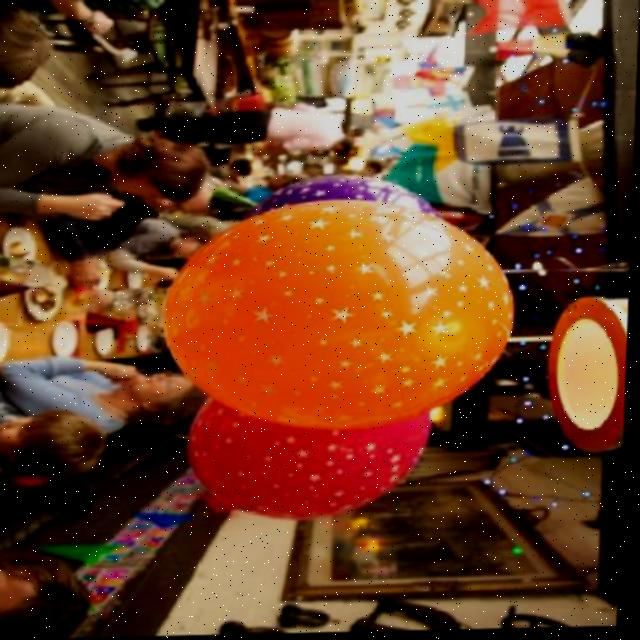balloon: (147, 183, 532, 448), (171, 380, 453, 541), (249, 164, 441, 253)
